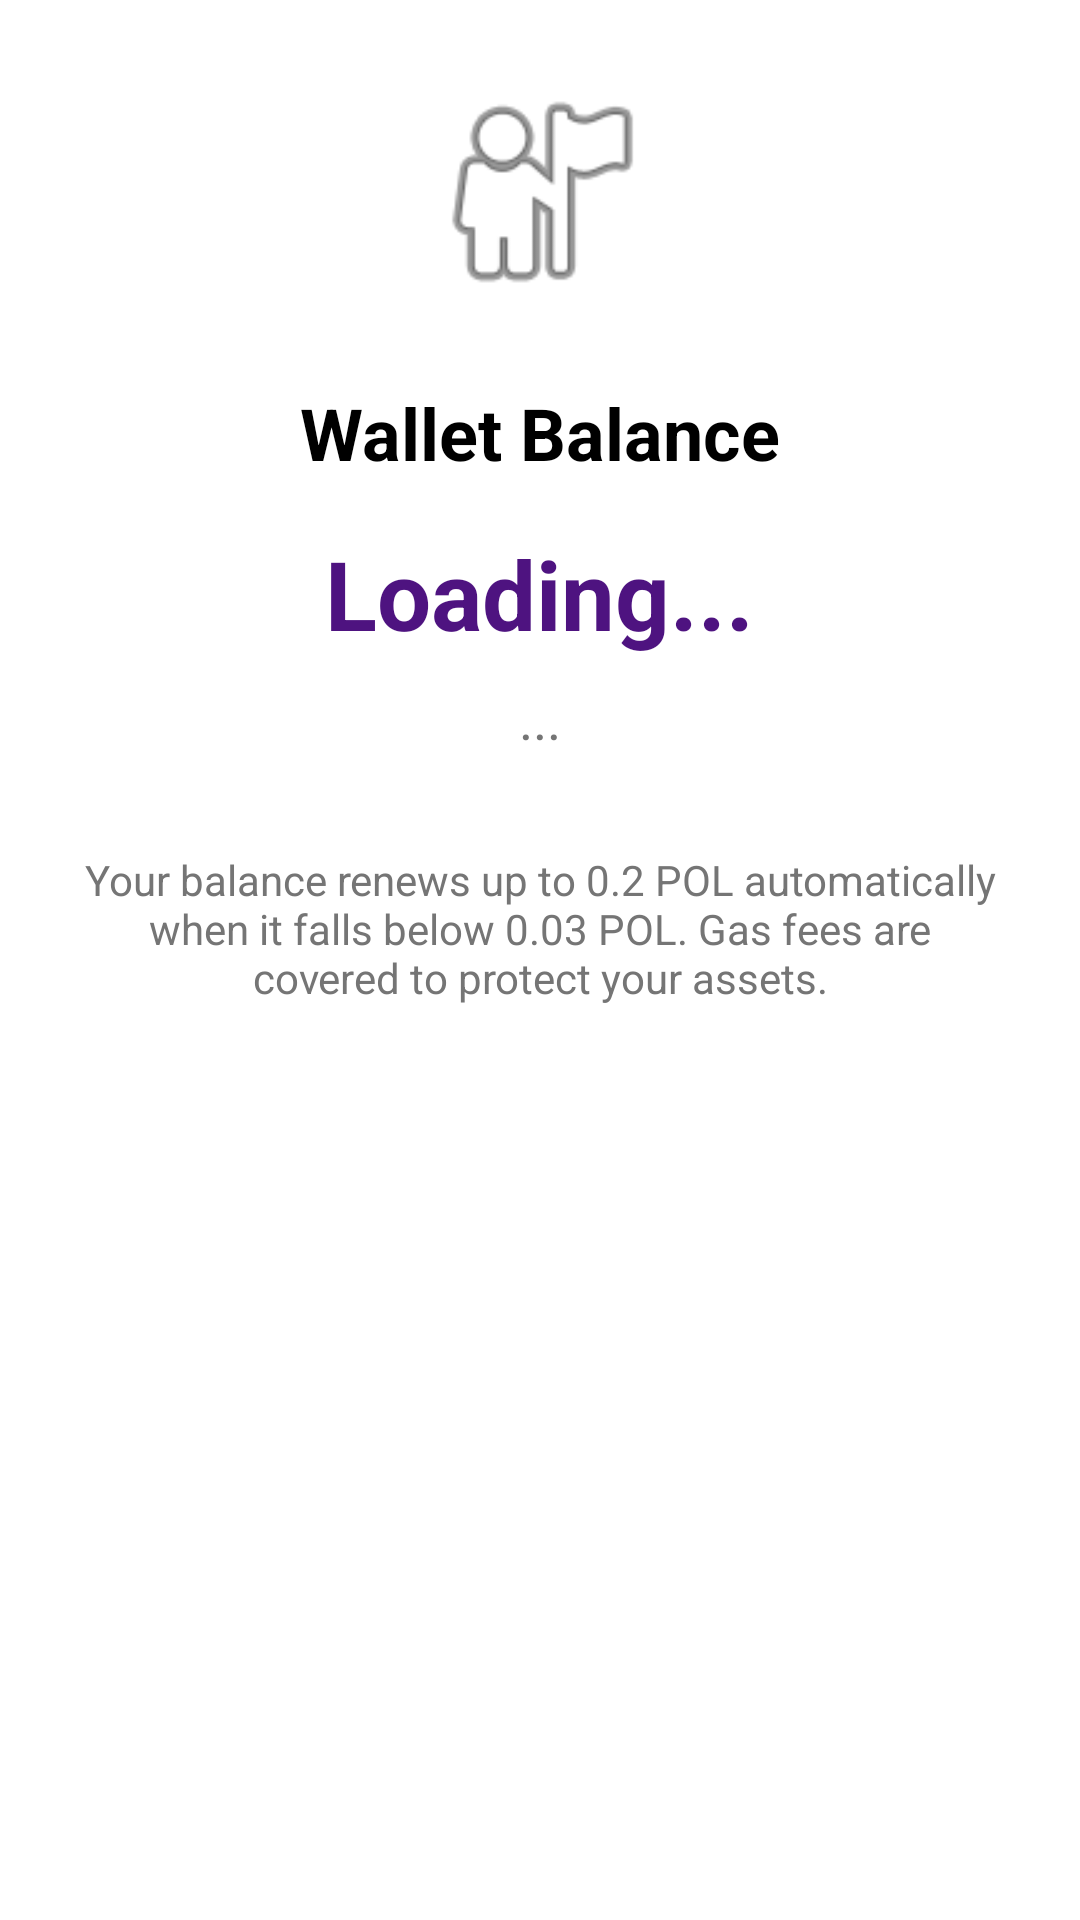

Screen size 1080 x 1920. Icon name, then its center in pixels as (x,y):
myplaces: (542,192)
